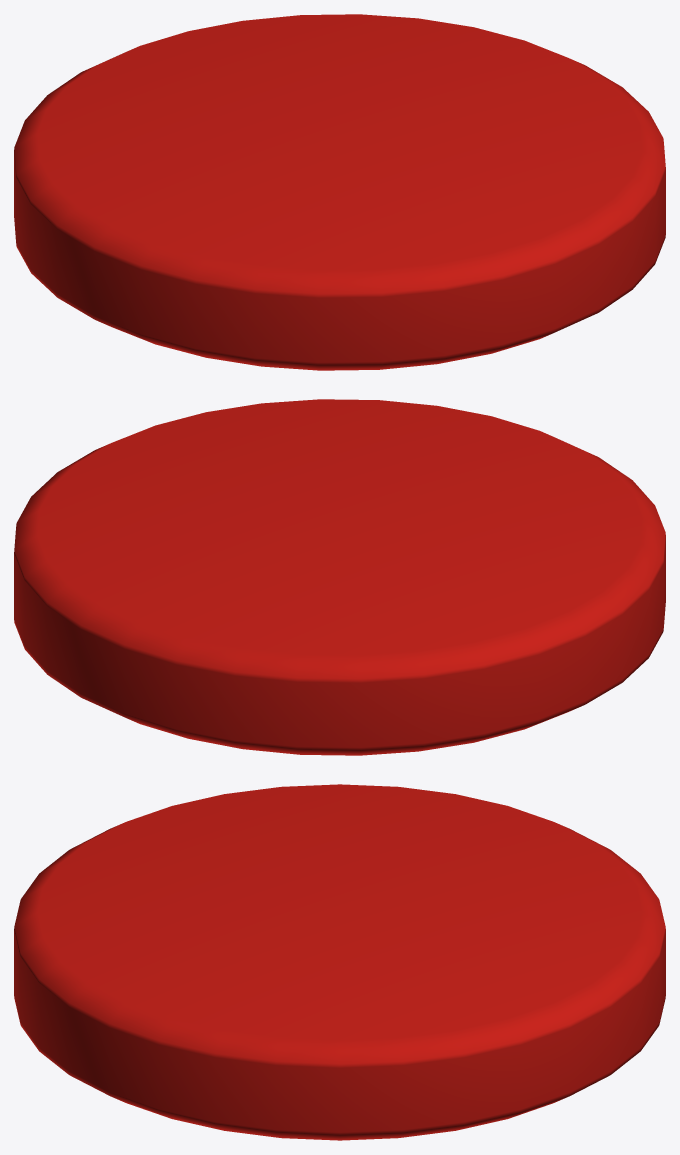
The model's file is burger_meat.fbx.
The picture shows the model from 3 angles, top to bottom: view 1: azimuth 30°, elevation 25°; view 2: azimuth 150°, elevation 25°; view 3: azimuth 270°, elevation 25°; orthographic projection.
Parts seen in each view (by area): view 1: #meat_plate; view 2: #meat_plate; view 3: #meat_plate.
Boxes of the visible parts, left/top/right/bottom form: #meat_plate: left=14, top=14, right=665, bottom=370; #meat_plate: left=14, top=399, right=665, bottom=755; #meat_plate: left=14, top=784, right=665, bottom=1140.
Bounding box in the file's own units: 191 × 32.58 × 191.
